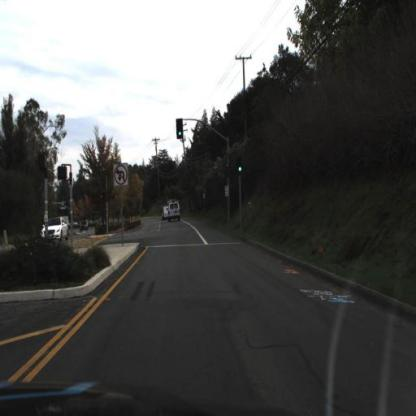car: (40, 216, 70, 244), (166, 196, 181, 221), (158, 200, 169, 222), (76, 217, 91, 231)
trafficLight-Green: (174, 119, 184, 141), (237, 158, 245, 182), (234, 156, 245, 173), (176, 125, 184, 144)
